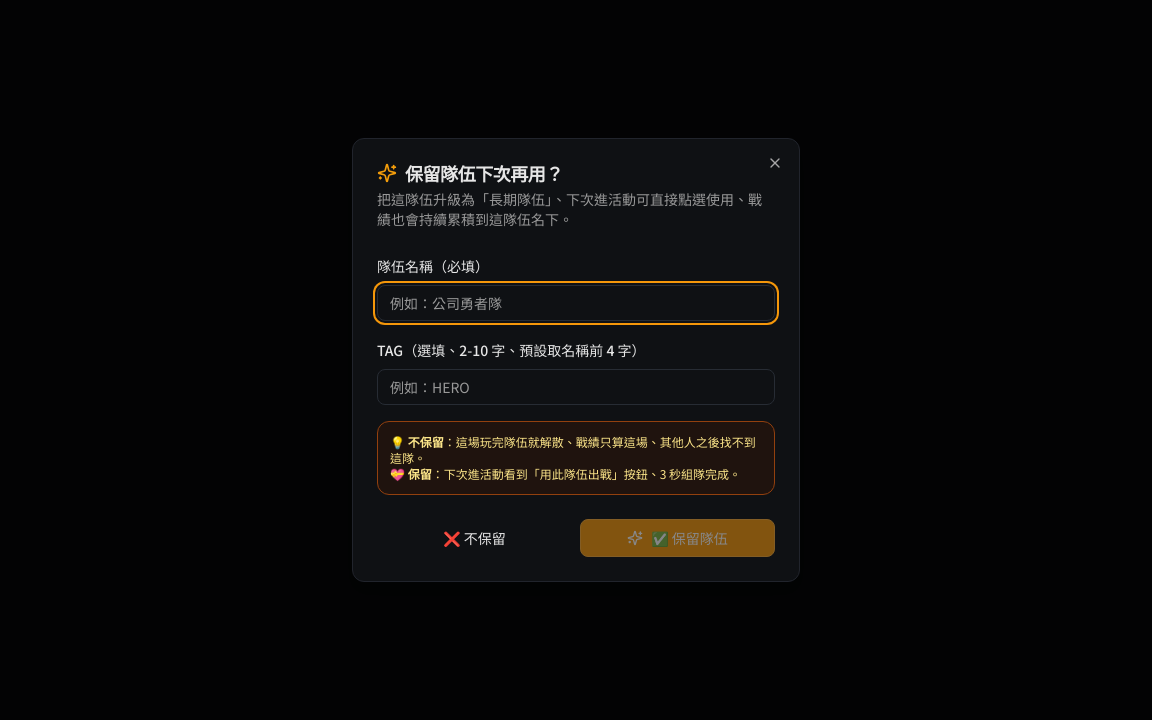
Scenario: KeepSquadDialog › 輸入名稱後保留按鈕可按
Type "勇者" into the field with test id "input-squad-name".
click(576, 303); type("勇者")  # box [377,285,775,321]
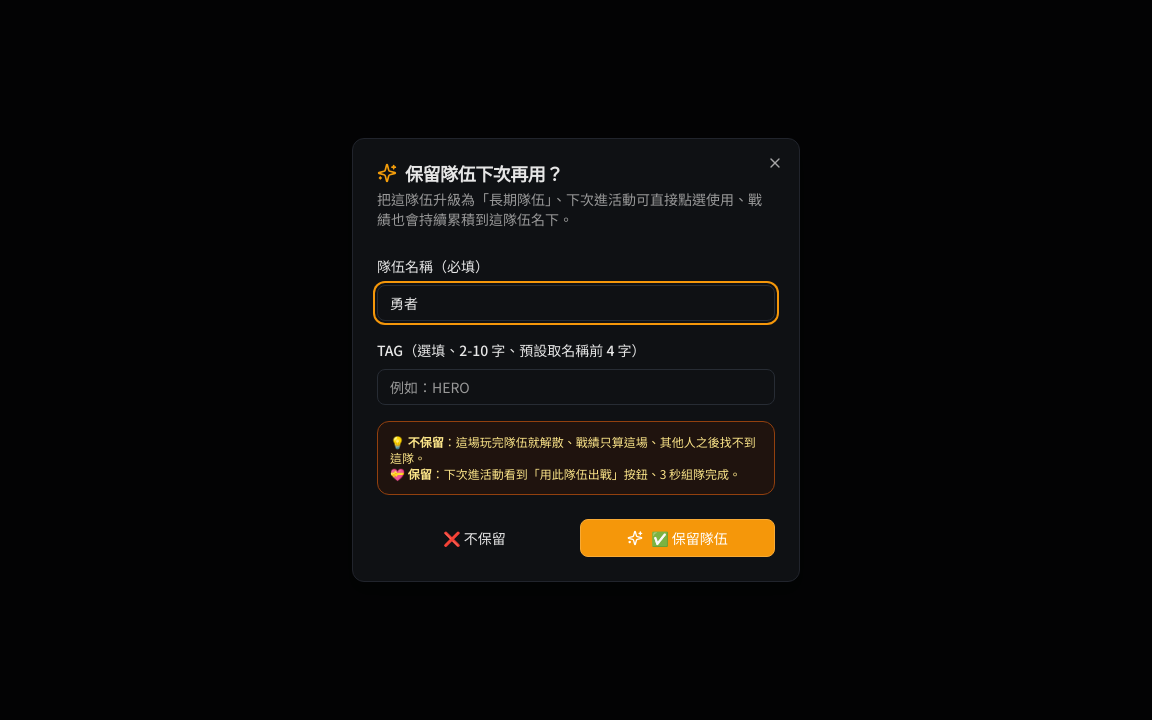
expect the button with test id "btn-keep-confirm" is enabled: met, box [580,519,775,557]
